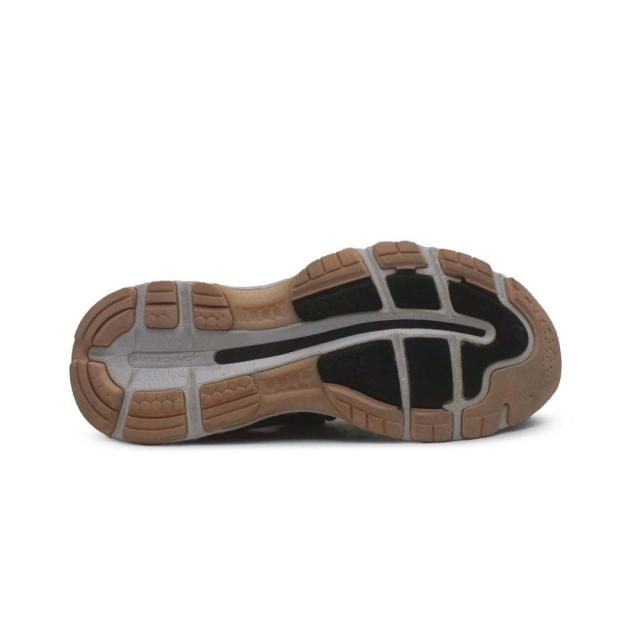outersole: (69, 242, 561, 444)
